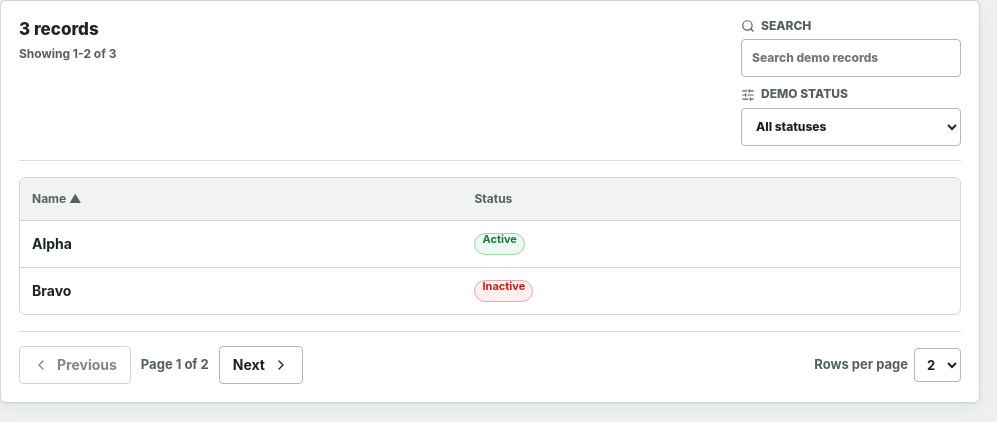
Test: RegisterTable › paginates records
Expected: the text "Alpha" is shown, [32,235,72,252]
Expected: the text "Charlie" is not shown
Step 1. Click the button "Next" → point(261, 365), box [219,346,303,384]
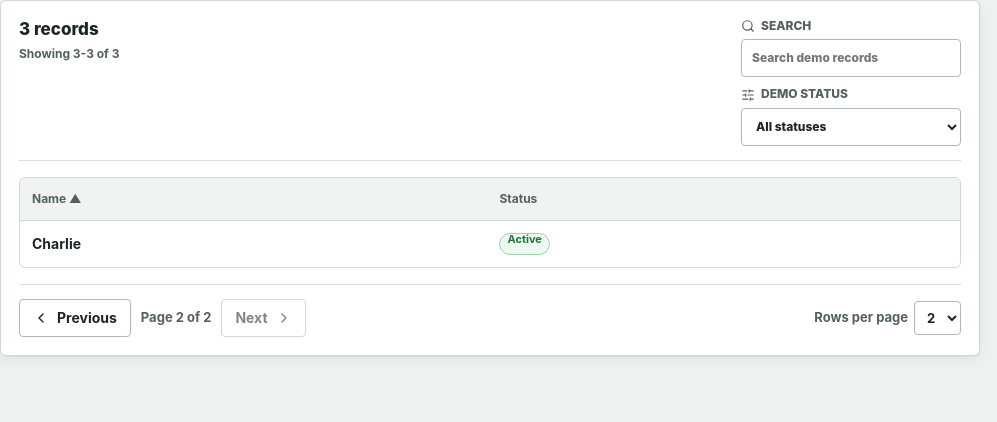
Result: the text "Charlie" is shown at [32,235,81,252]
Result: the text "Alpha" is gone
Result: the text "Page 2 of 2" is shown at [141,308,211,328]
